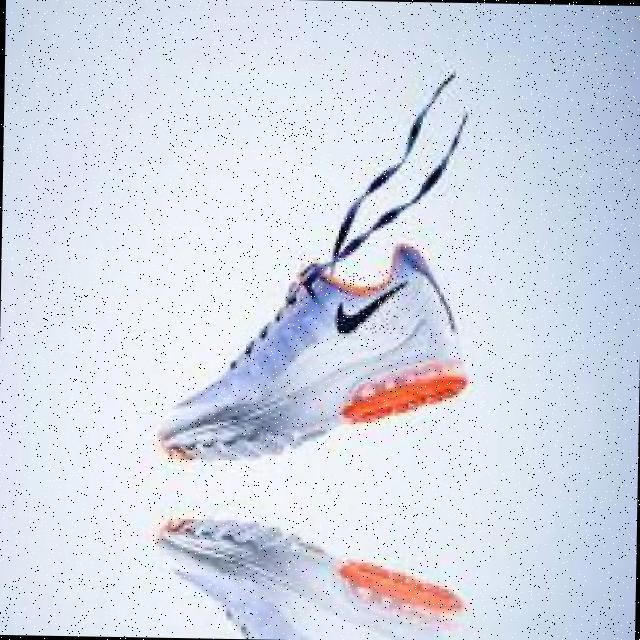Nike: (337, 271, 413, 335)
